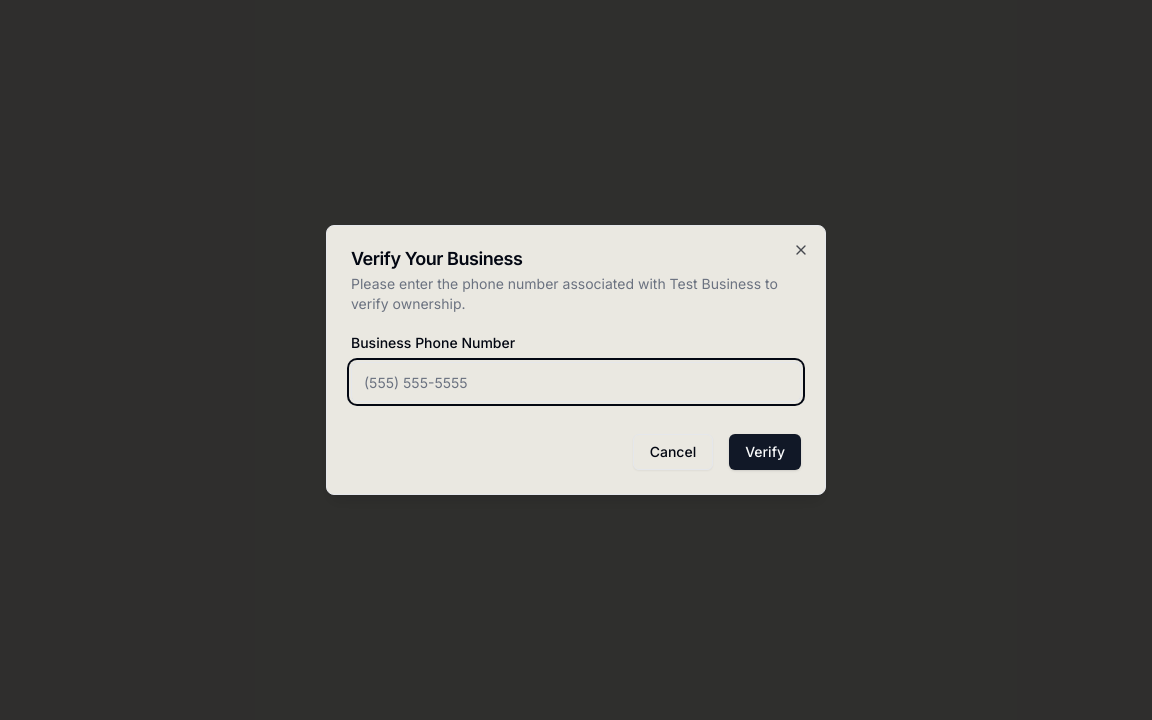
VerifyDialog › shows validation error for short phone number
Step 1. Type "123" into the field with placeholder "(555) 555-5555" → (576, 382), box [351,362,801,402]
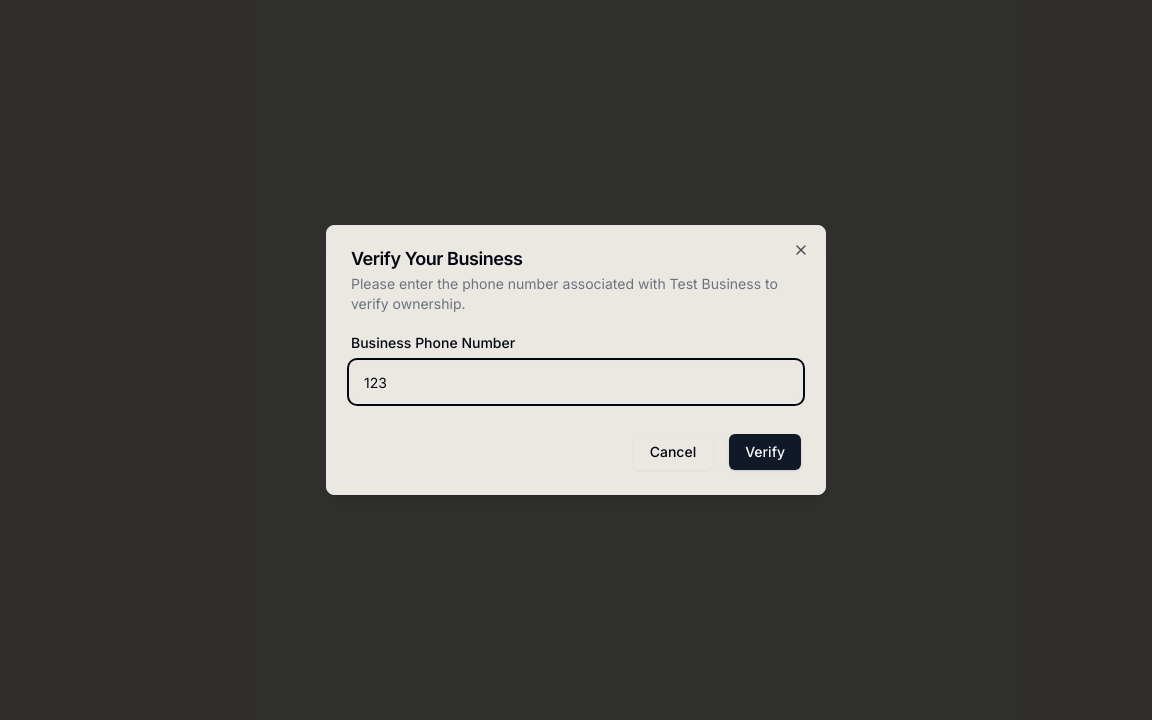
Step 2. Click the button "Verify" → (765, 452), box [729,434,801,470]
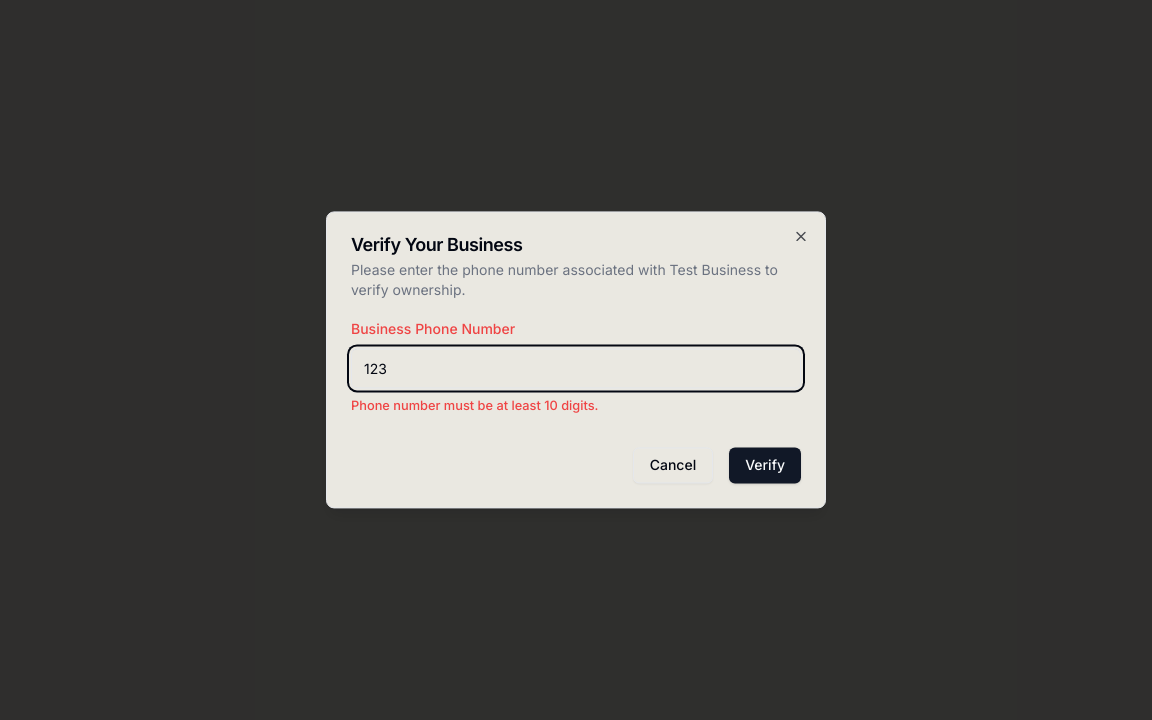
Expected: the text "Phone number must be at least 10 digits." is shown, [351,398,598,413]
